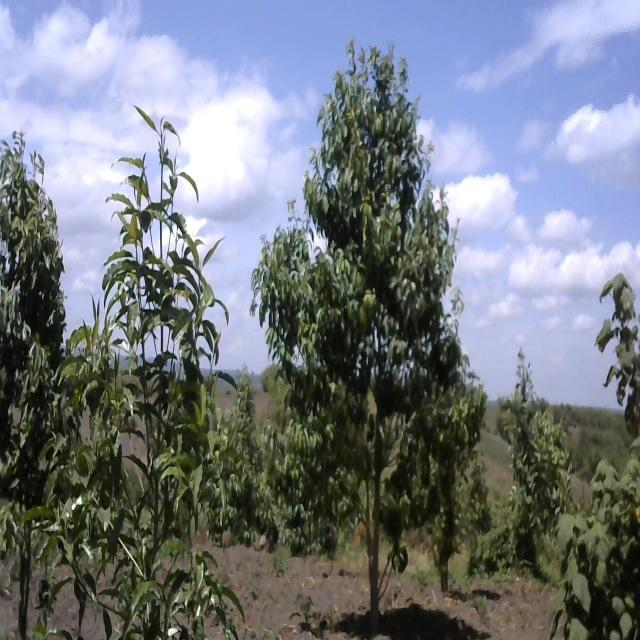Lemon Myrtle: (244, 44, 480, 619), (35, 118, 239, 636), (0, 115, 60, 553)
other: (558, 273, 639, 640)
